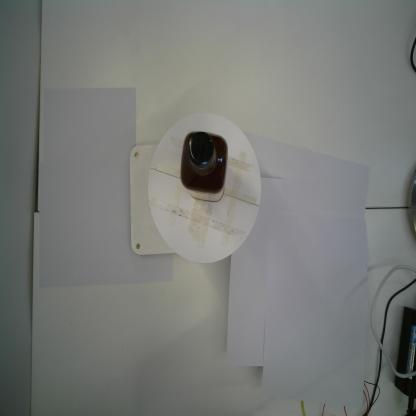Seasoner: (178, 130, 230, 205)
